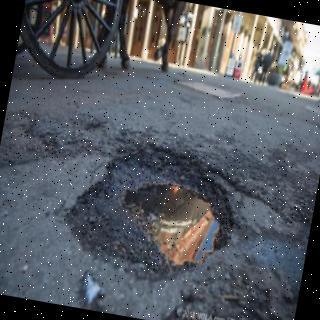pothole: (69, 143, 231, 281)
